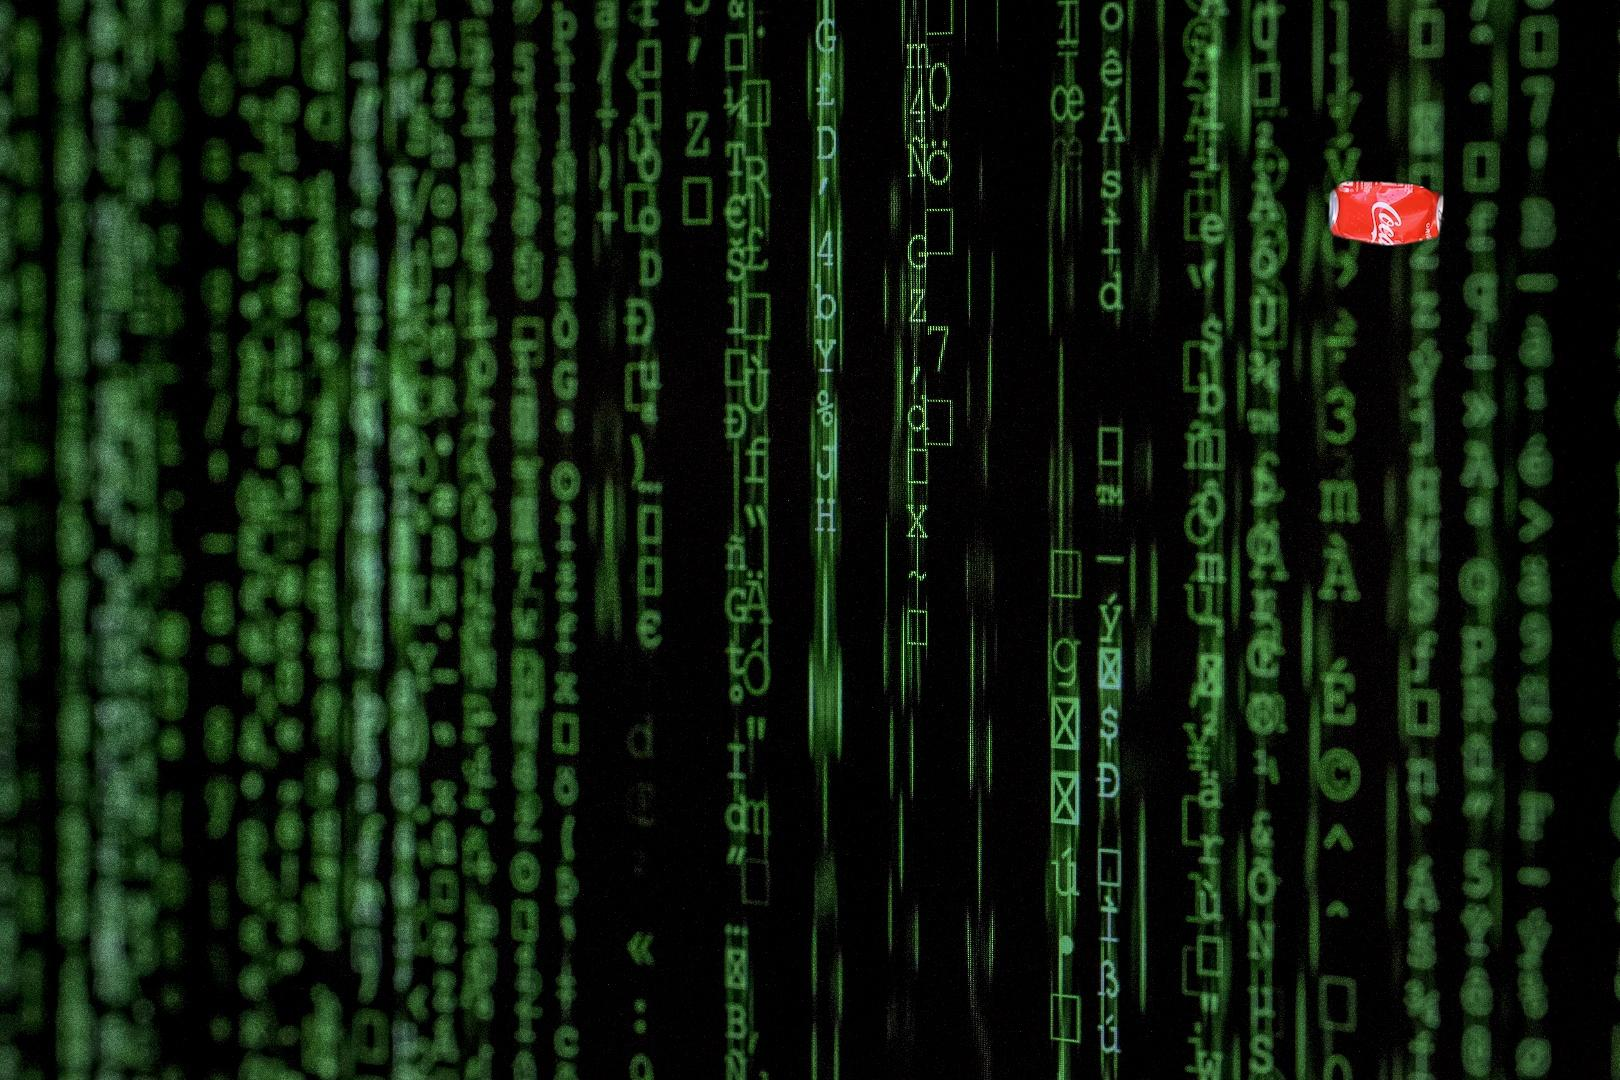biological: (1598, 433, 1620, 847)
metal-cans: (1133, 174, 1448, 615)
